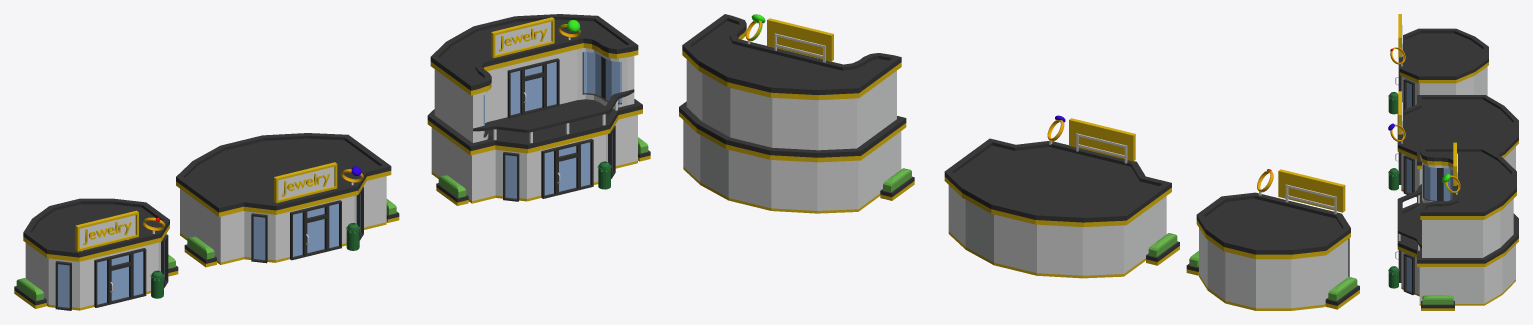
File: jewelry.fbx
3 renders of one model, left to right at view 1: azimuth 30°, elevation 25°; view 2: azimuth 150°, elevation 25°; view 3: azimuth 270°, elevation 25°, orthographic. The views are drawn at different scales.
Visible parts, largest first — view 1: jew_t3, jew_t2, jew_t1; view 2: jew_t3, jew_t2, jew_t1; view 3: jew_t3, jew_t2, jew_t1.
Part boxes in pixels (<box>): jew_t3: <box>427,14,650,205</box>; jew_t2: <box>176,133,399,267</box>; jew_t1: <box>14,198,178,310</box>; jew_t3: <box>679,14,914,213</box>; jew_t2: <box>944,115,1179,278</box>; jew_t1: <box>1186,169,1359,310</box>; jew_t3: <box>1388,142,1518,310</box>; jew_t2: <box>1388,91,1518,197</box>; jew_t1: <box>1388,14,1488,114</box>.
Bounding box in the file's own units: 2202 × 493 × 507.
